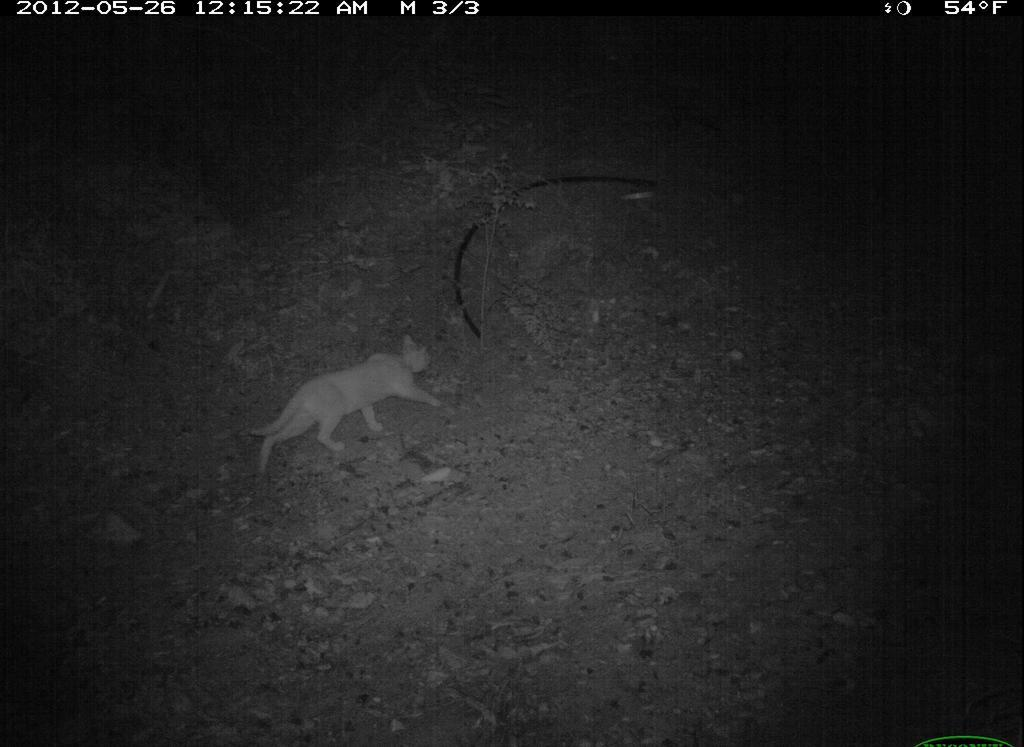cat: (227, 322, 446, 484)
